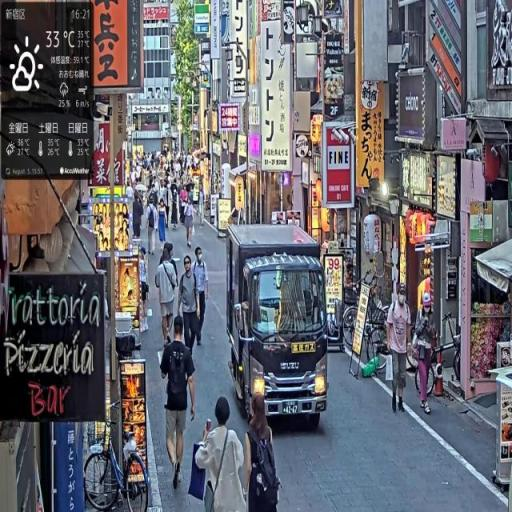person: (160, 316, 199, 493), (193, 397, 250, 512), (246, 386, 281, 512), (387, 285, 415, 416), (178, 257, 202, 360), (157, 243, 179, 350), (193, 248, 210, 347), (138, 245, 151, 331), (147, 199, 159, 258), (157, 200, 168, 252), (185, 200, 196, 251)
